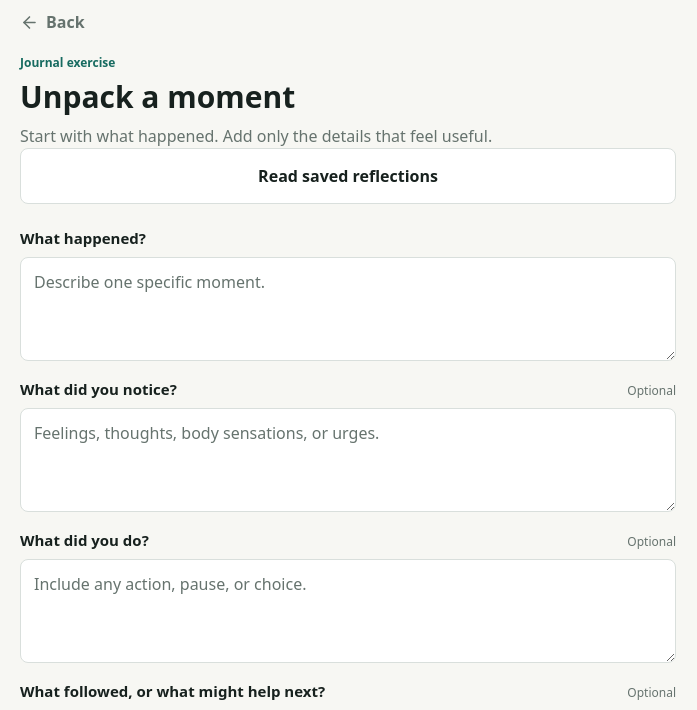
Test case: ChainAnalysis › preserves the current draft when visiting saved reflections
Type "Unfinished thought" into the text box labelled "What happened?" at coordinates (348, 309), box [20, 257, 676, 361]
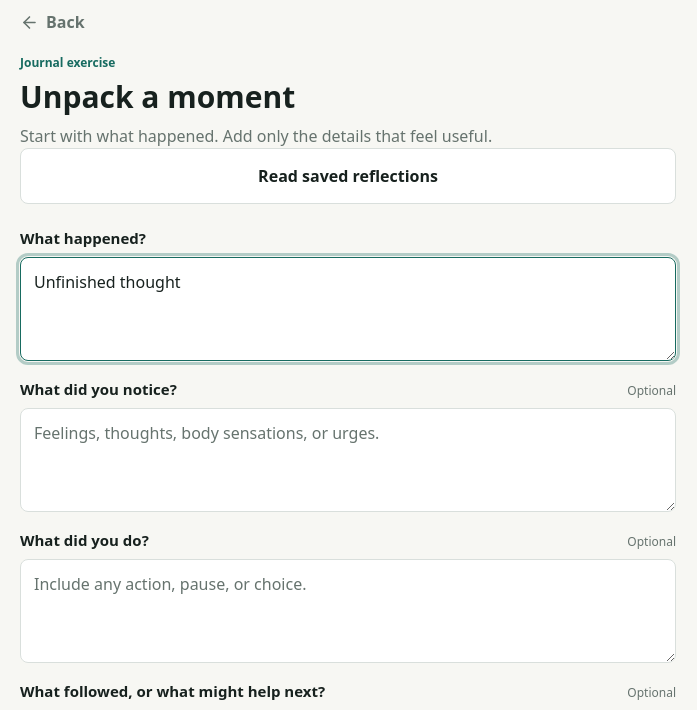
Type "Tension" into the text box labelled "What did you notice?" at coordinates (348, 460), box [20, 408, 676, 512]
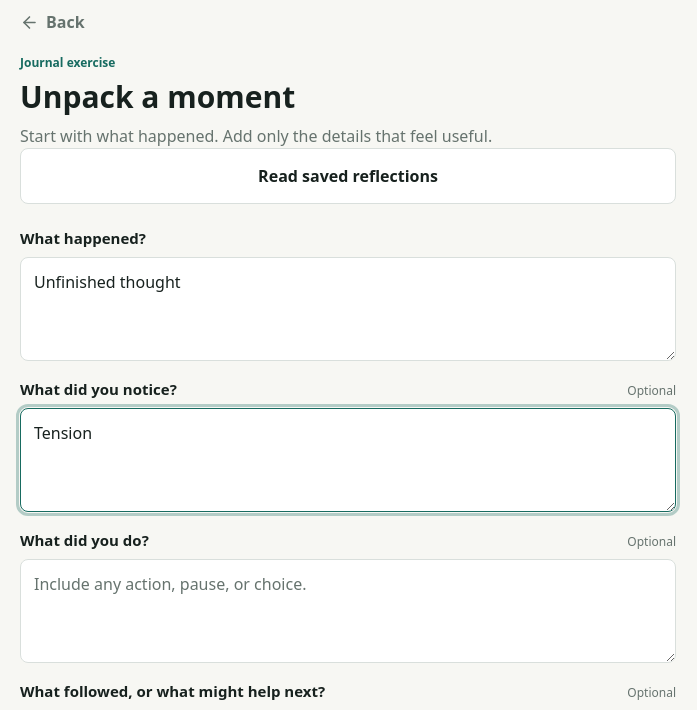
Click the button "Read saved reflections" at coordinates (348, 176), box [20, 148, 676, 204]
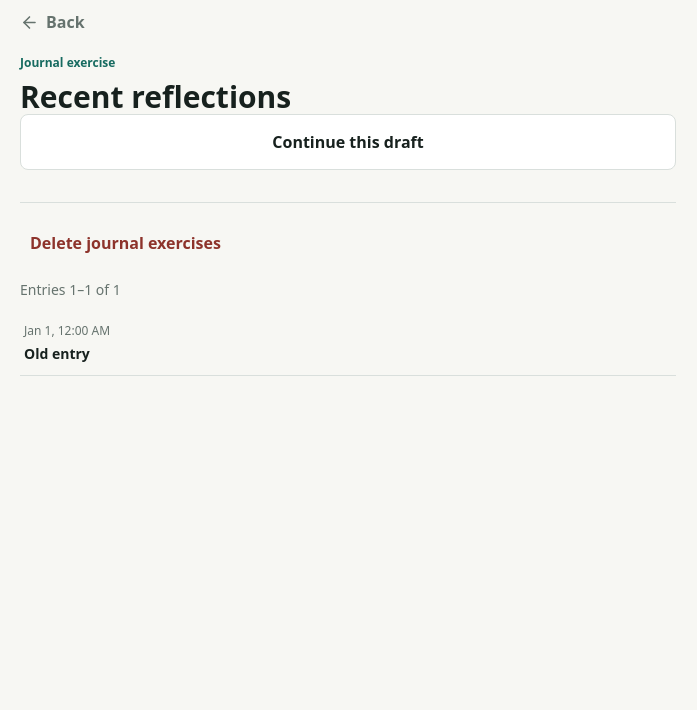
Click the button "Continue this draft" at coordinates (348, 142), box [20, 114, 676, 170]
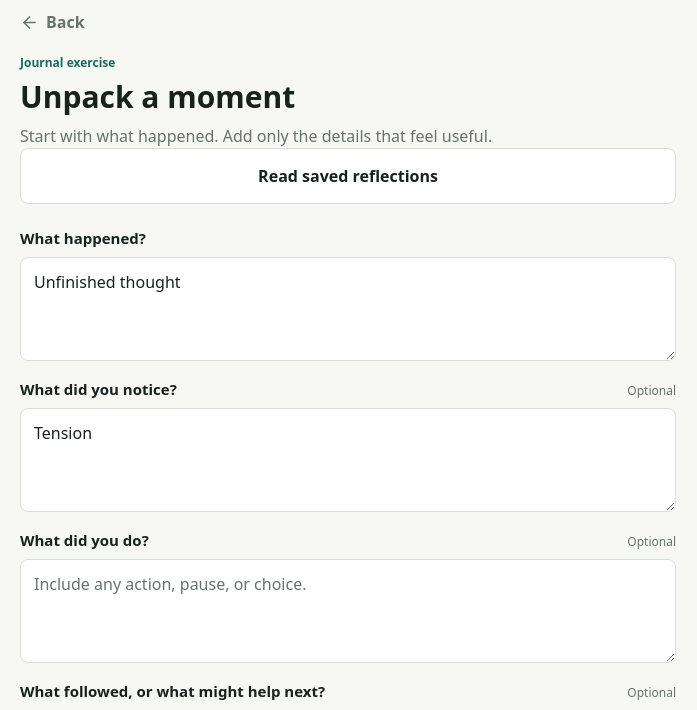
Check: the text box labelled "What happened?" holds "Unfinished thought", box [20, 257, 676, 361]
Check: the text box labelled "What did you notice?" holds "Tension", box [20, 408, 676, 512]
